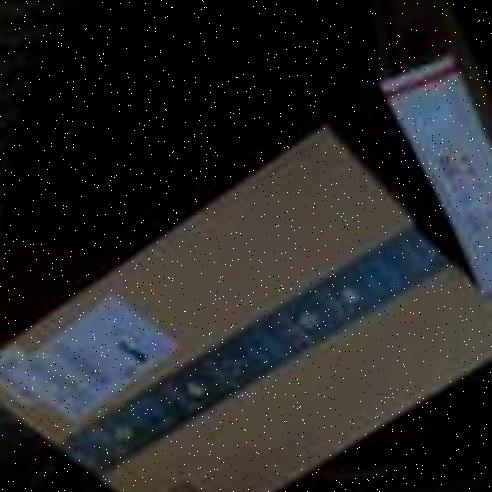Amazon: (0, 127, 481, 492)
Other: (369, 17, 492, 305)
